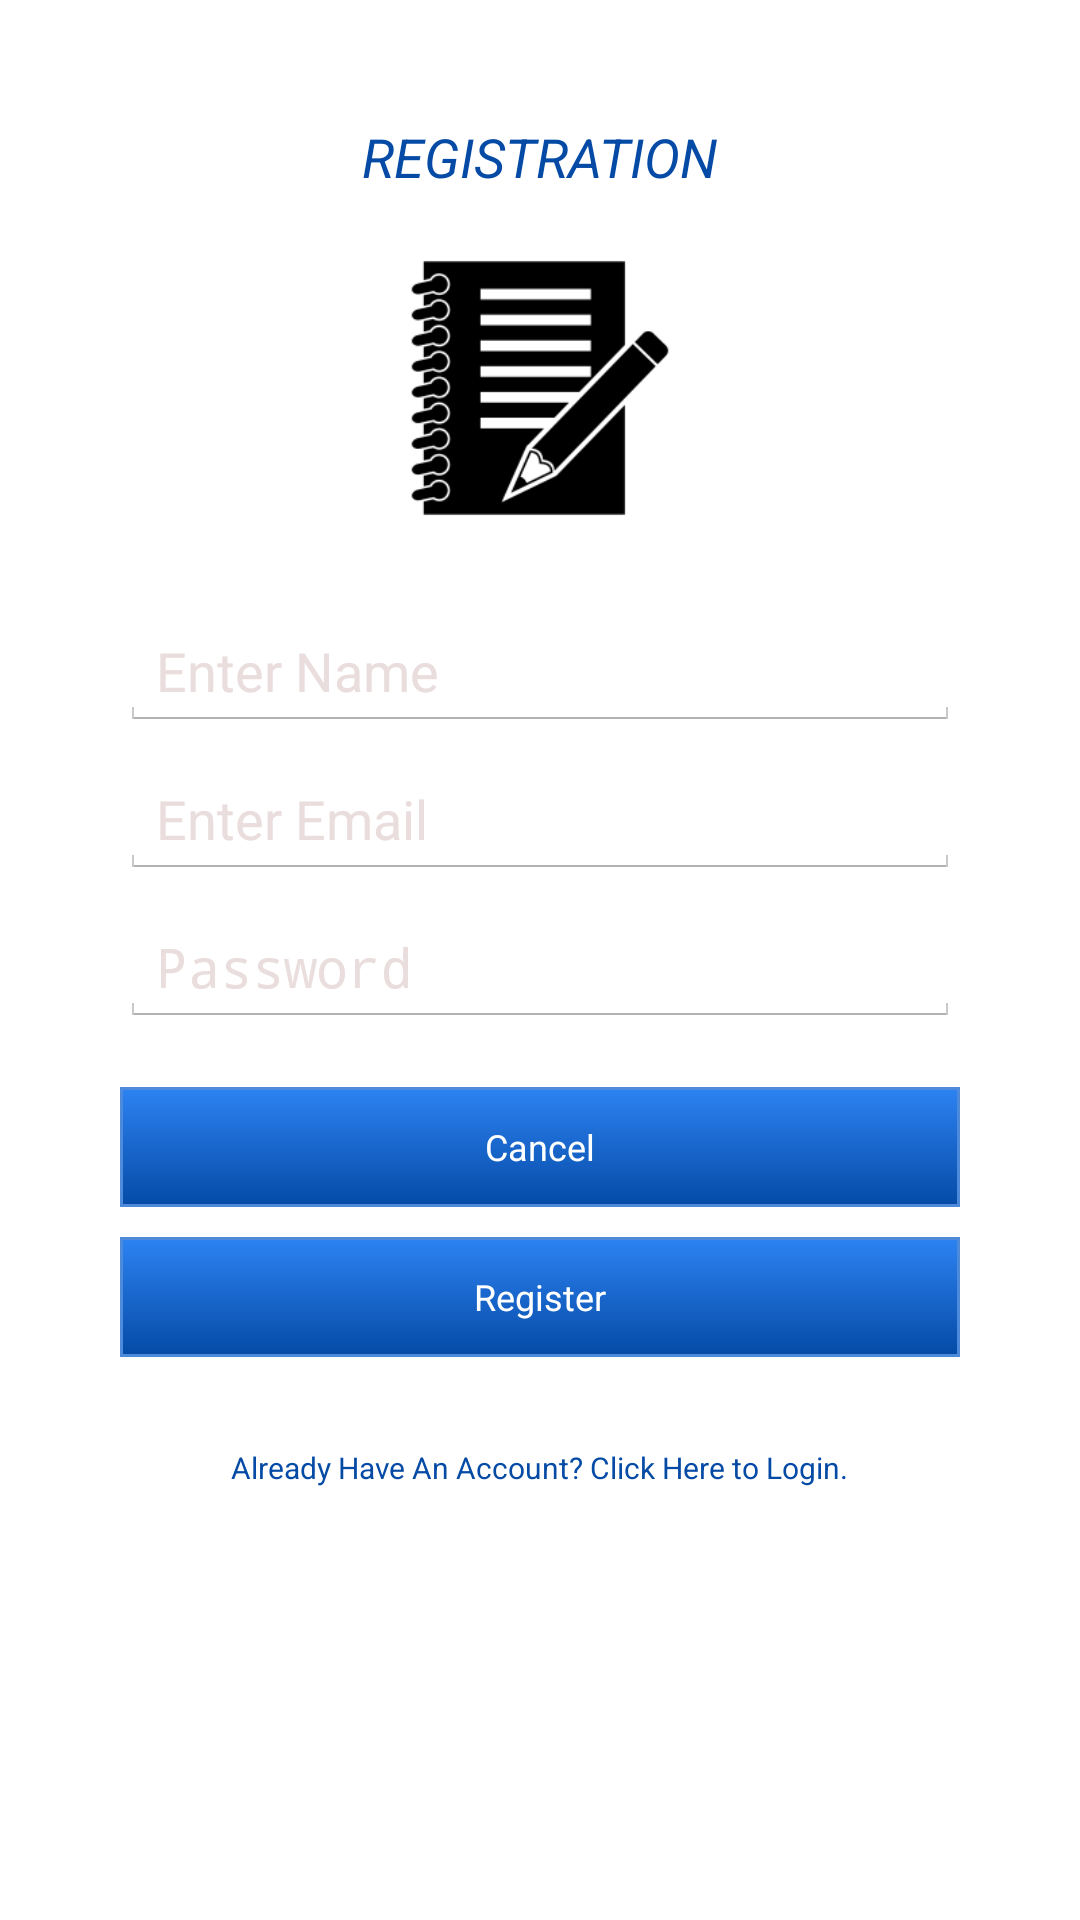

Locate icon controls on the screen. Image size 1080x1920, boxes as region(x1, y1, x2, y2).
diary: region(411, 261, 669, 515)
